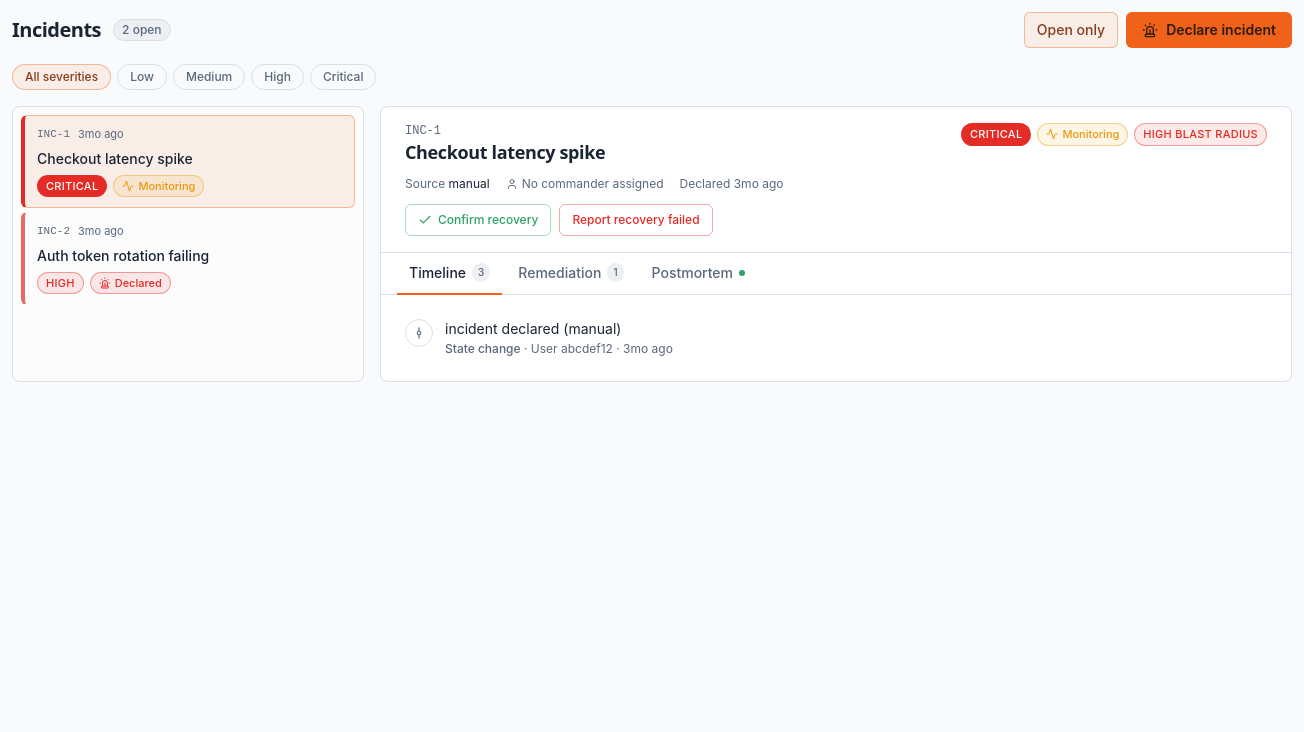
Scenario: IncidentsView › shows the postmortem and its action items on the postmortem tab
Expected: the element with test id "incident-detail" is shown, x1=381 y1=107 x2=1291 y2=380
Step 1. Click the tab "Postmortem" → (698, 274), box x1=640 y1=252 x2=757 y2=294
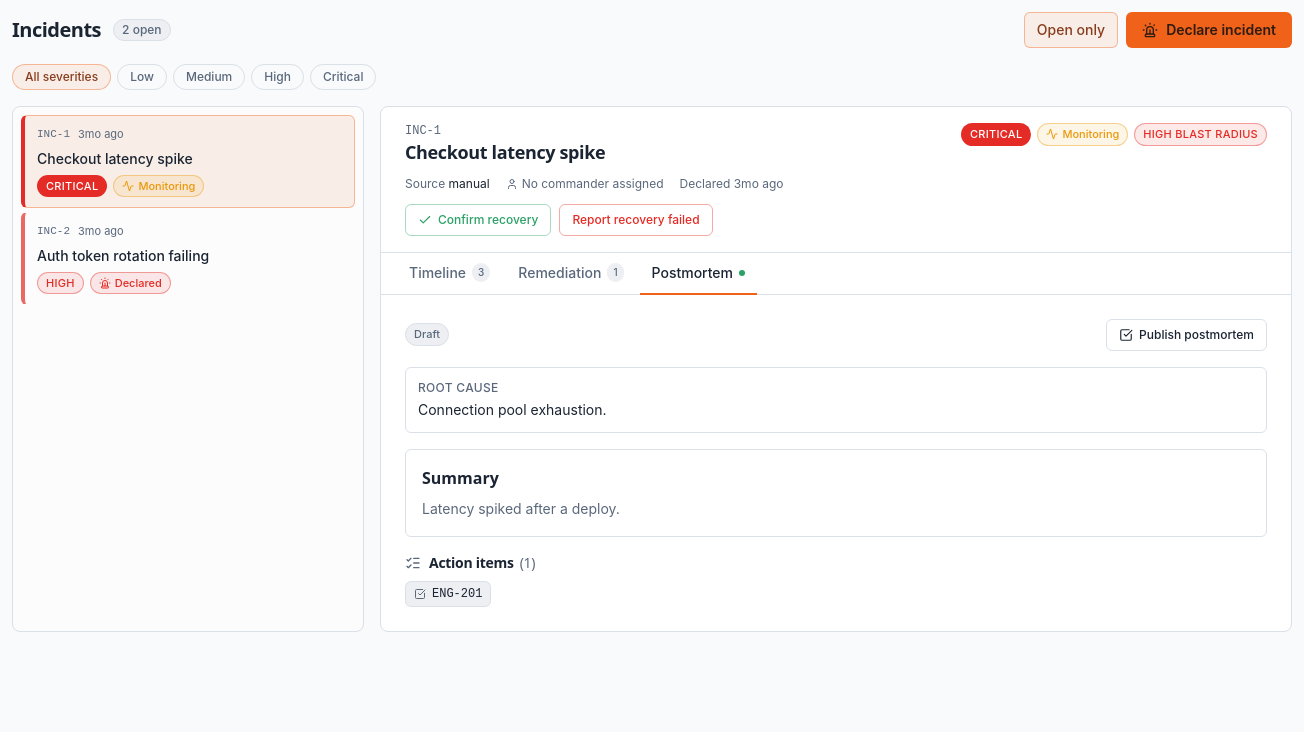
Expected: the element with test id "postmortem" is shown, x1=405 y1=318 x2=1267 y2=607
Expected: the list item "ENG-201" is shown, x1=405 y1=581 x2=491 y2=607
Expected: the text "Connection pool exhaustion." is shown, x1=418 y1=400 x2=607 y2=418
